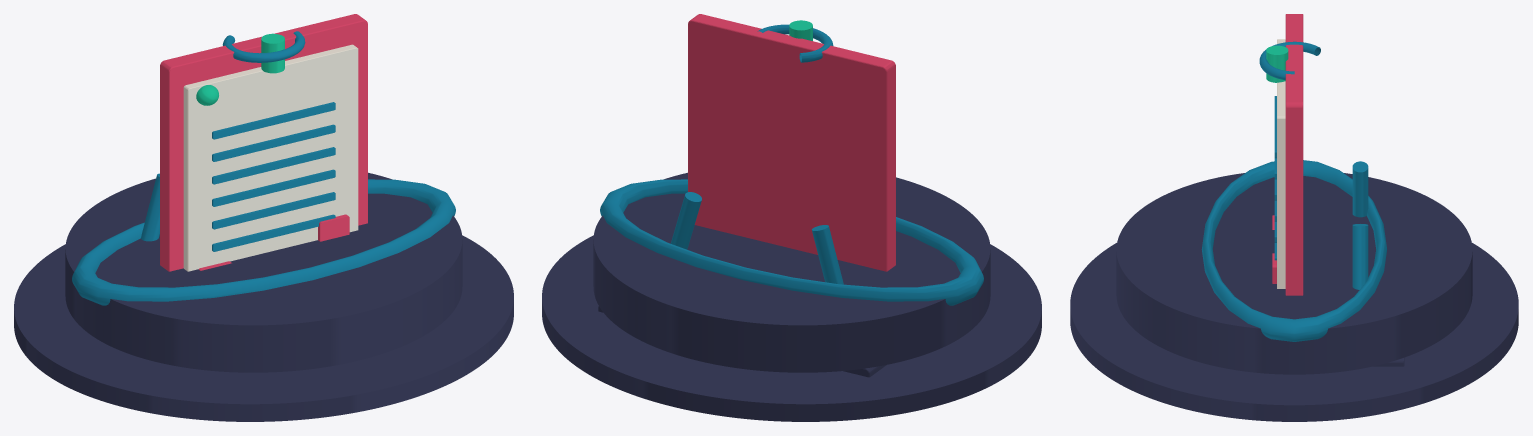
The model's file is 0262_世界古代文明图鉴_印章文字.glb.
The picture shows the model from 3 angles, left to right: view 1: azimuth 30°, elevation 25°; view 2: azimuth 150°, elevation 25°; view 3: azimuth 270°, elevation 25°; orthographic projection. The views are drawn at different scales.
Visible parts, largest first — view 1: card_0262; view 2: card_0262; view 3: card_0262.
Boxes of the visible parts, x1,y1,x2,y2 form: card_0262: (14, 14, 513, 421); card_0262: (542, 14, 1041, 421); card_0262: (1070, 14, 1518, 421).
Size of the model in its own units: 1.6 by 1 by 1.5.
